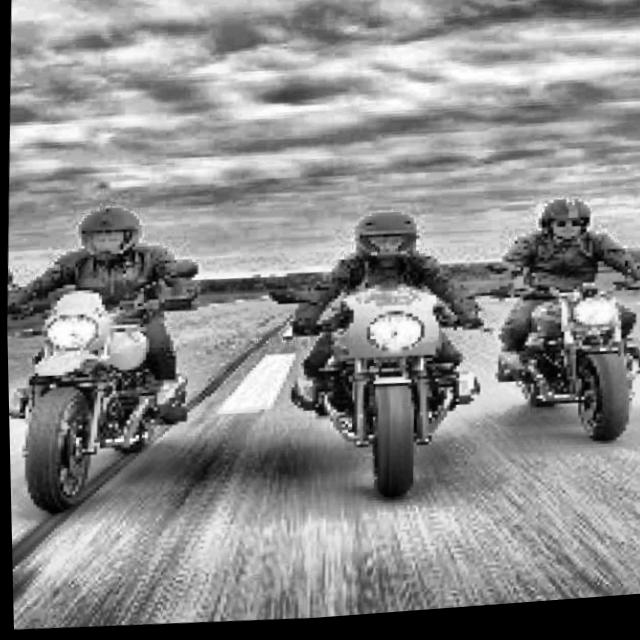motorcycle: (260, 265, 499, 526), (4, 240, 212, 520), (484, 232, 640, 454)
